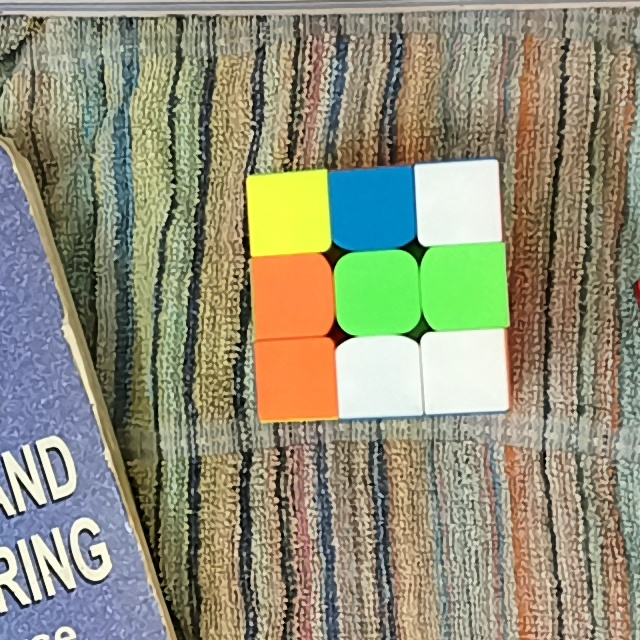tile: (428, 335, 502, 406), (253, 179, 325, 247), (434, 251, 502, 323), (339, 173, 409, 240), (426, 168, 492, 238), (262, 345, 332, 411), (259, 261, 325, 329), (346, 259, 412, 326), (346, 346, 414, 411)
